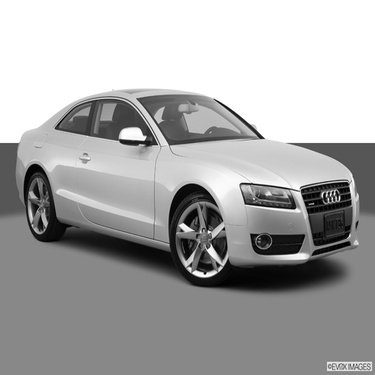car: (7, 84, 364, 296)
